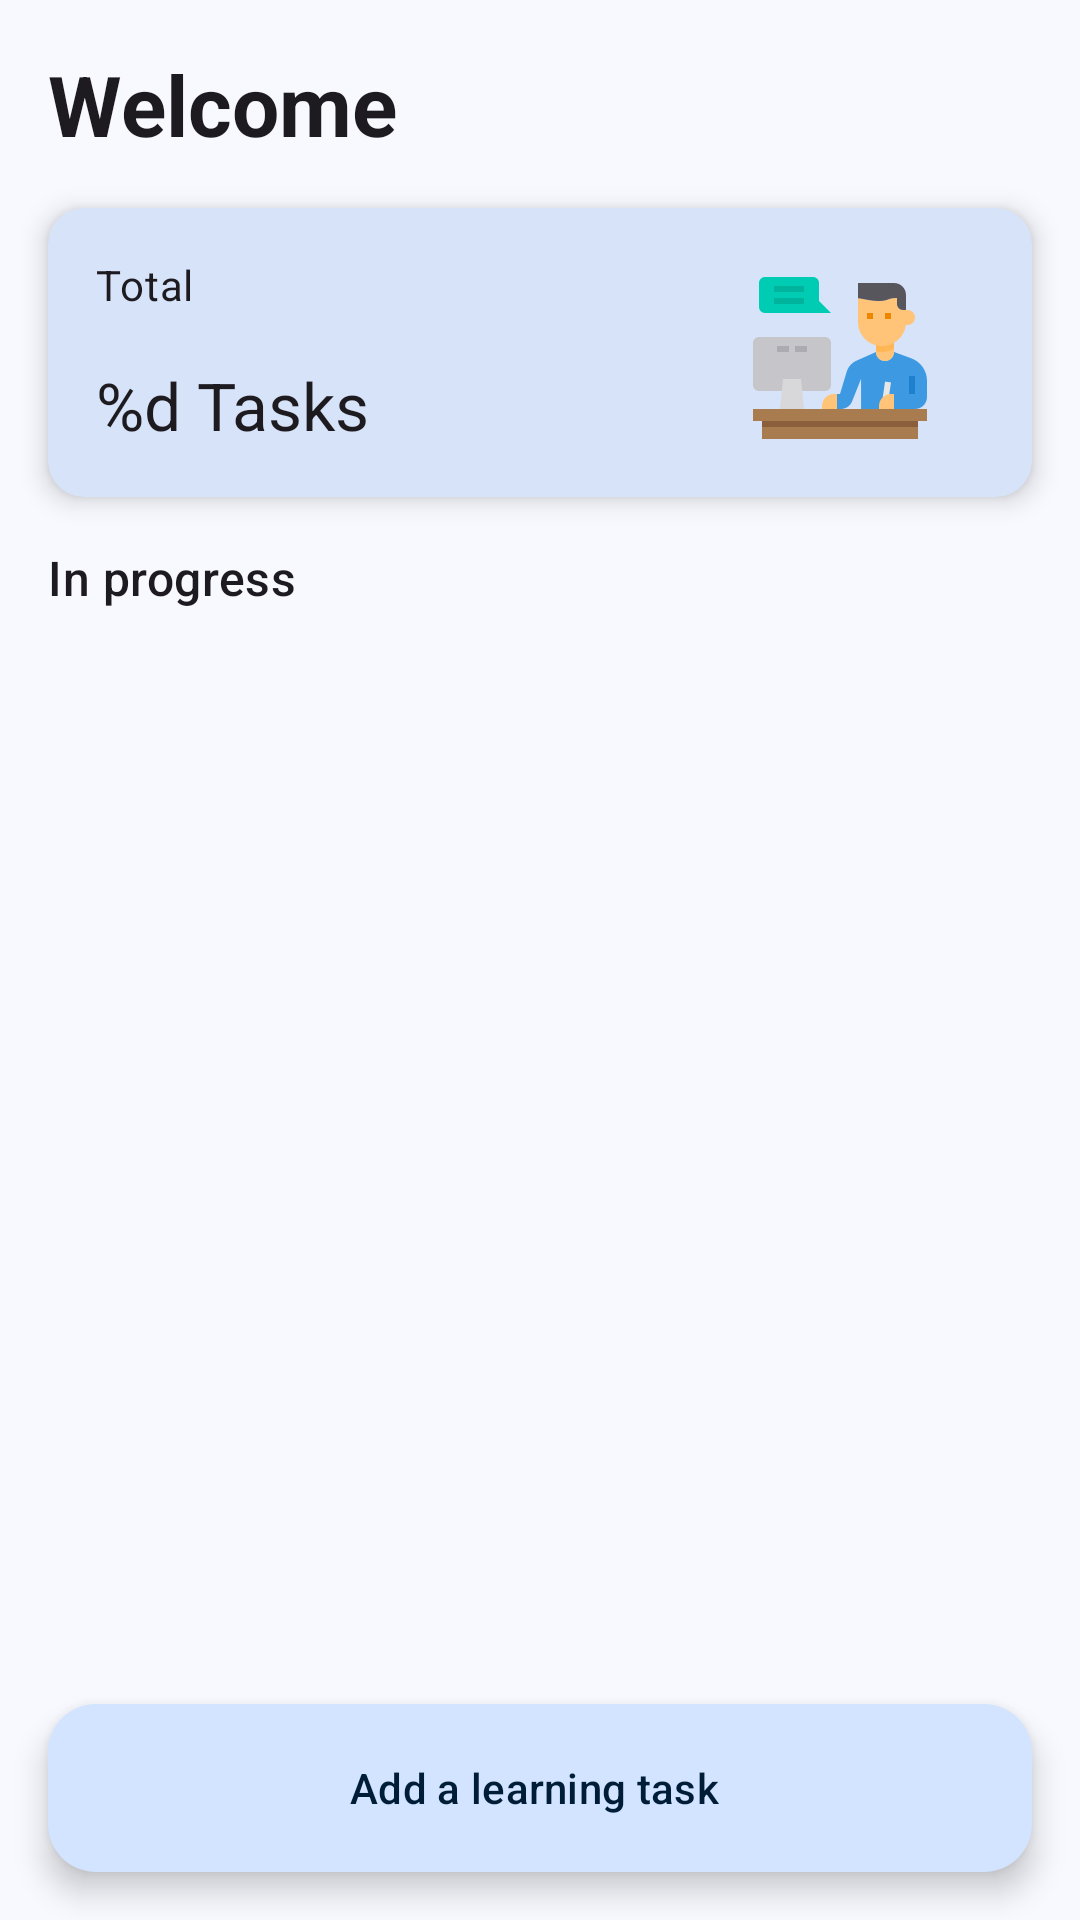

Named icons in this screenshot (1080x1920) and their bounding boxes, (x1, y1, x2, y2):
learning: (753, 277, 927, 439)
